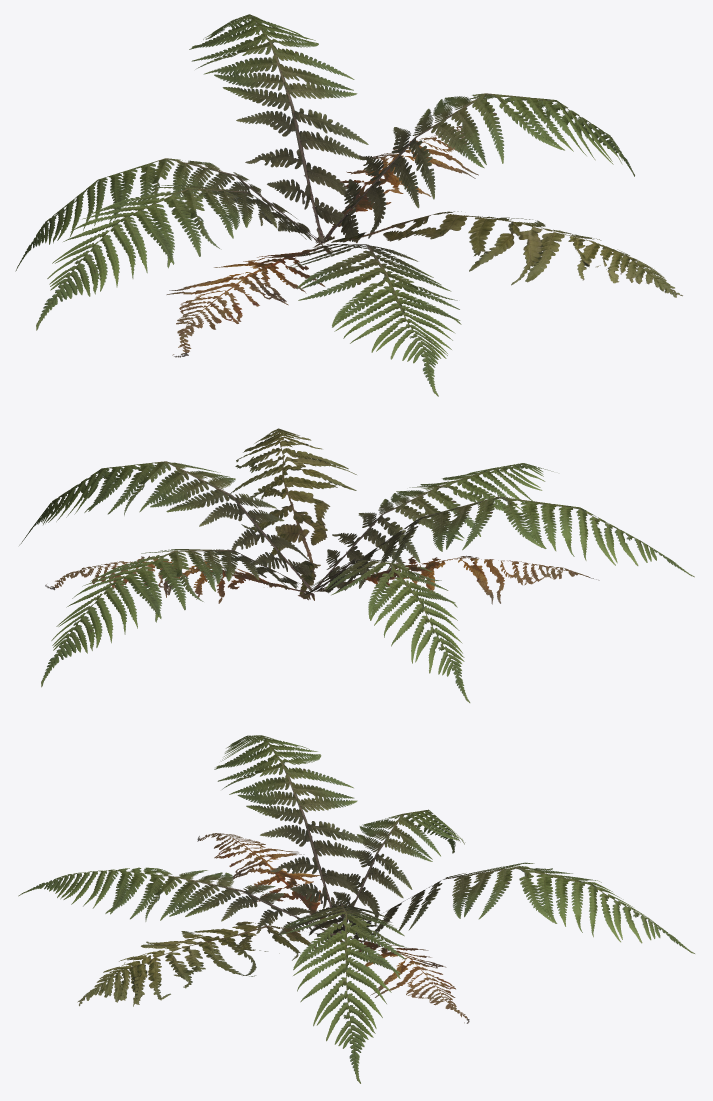
File: PW_Plant_Fern_Realistic_03.fbx
3 renders of one model, top to bottom at view 1: azimuth 30°, elevation 25°; view 2: azimuth 150°, elevation 25°; view 3: azimuth 270°, elevation 25°, orthographic. The views are drawn at different scales.
Visible parts, largest first — view 1: PW_Plants_Fern_Realistic_03_LOD0; view 2: PW_Plants_Fern_Realistic_03_LOD0; view 3: PW_Plants_Fern_Realistic_03_LOD0.
Part boxes in pixels (<box>): PW_Plants_Fern_Realistic_03_LOD0: <box>15,14,682,396</box>; PW_Plants_Fern_Realistic_03_LOD0: <box>19,428,694,702</box>; PW_Plants_Fern_Realistic_03_LOD0: <box>18,735,694,1083</box>.
Size of what is drawn, in the model's own units: 257 by 52.13 by 268.
